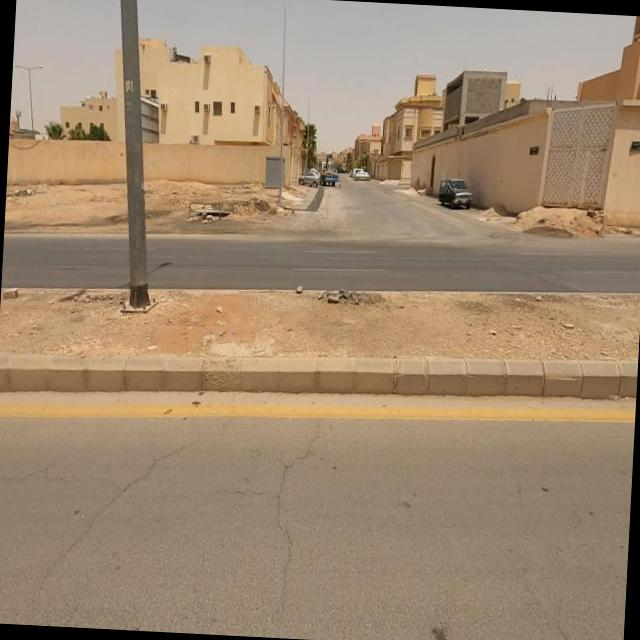debris: (162, 160, 268, 256), (4, 150, 74, 238)
